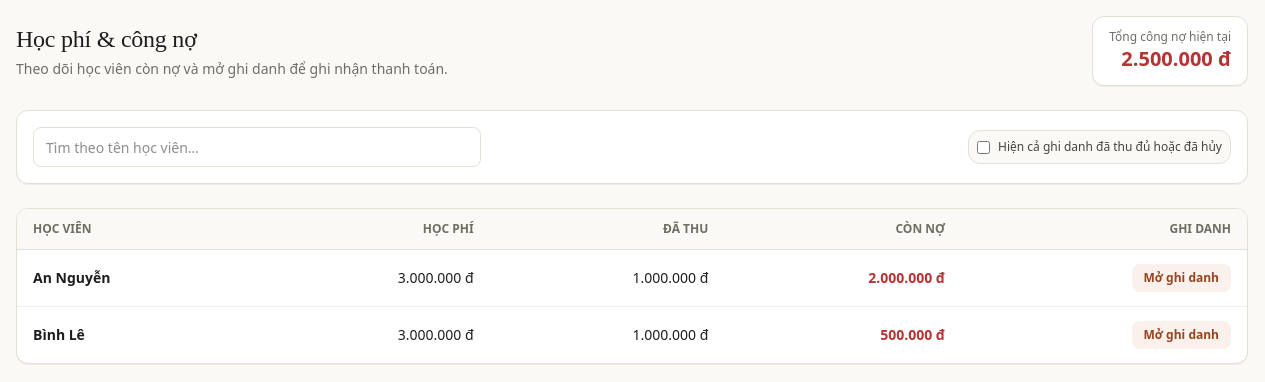
it: ReceivablesPage › lọc theo tên học viên
expect the link "An Nguyễn" is shown: met, box [33,268,110,287]
Type "bình" into the field with placeholder "Tìm theo tên học viên…" at (257, 147), box [33,127,481,167]
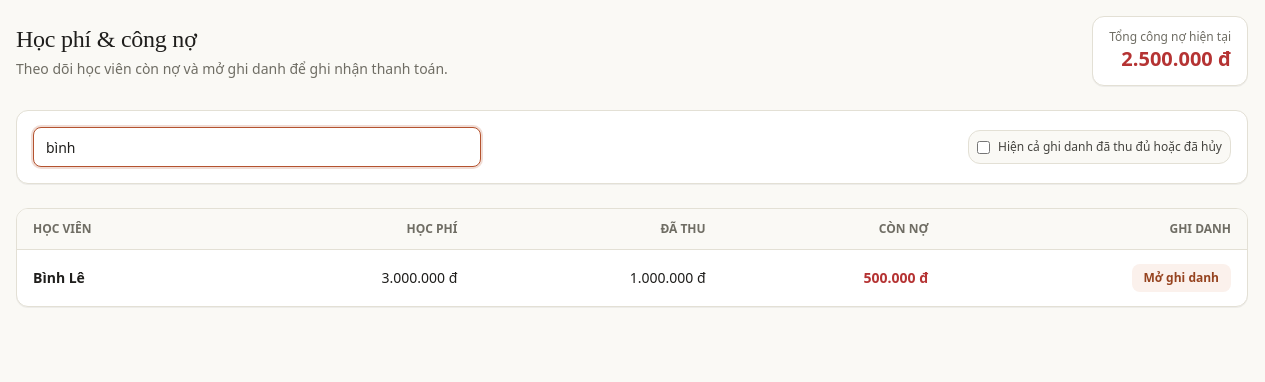
expect the link "Bình Lê" is shown: met, box [33,268,85,287]
expect the link "An Nguyễn" is gone: met
